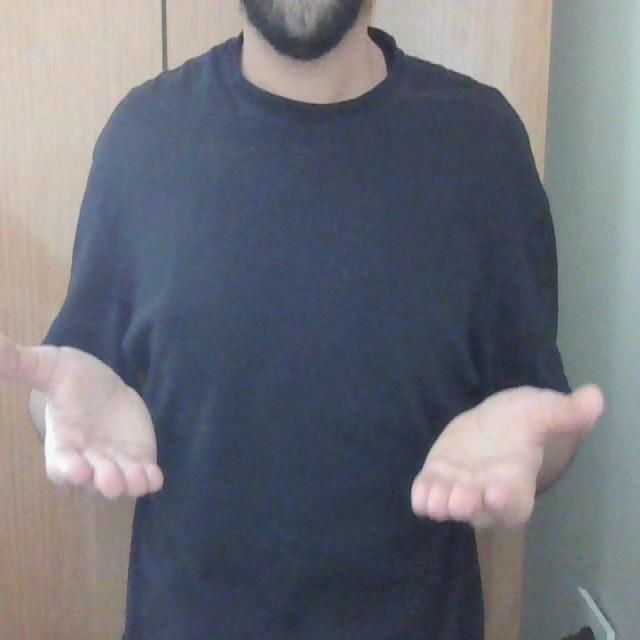Evet: (0, 334, 607, 541)
